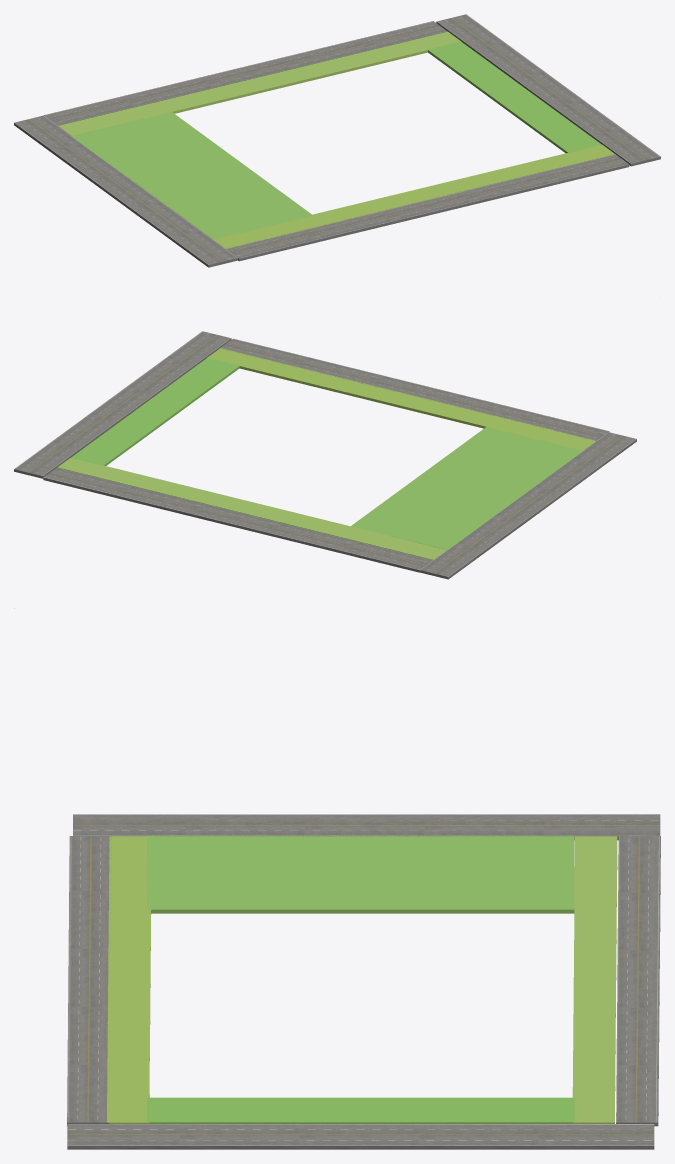
File: road_and_ground.obj
3 renders of one model, top to bottom at view 1: azimuth 30°, elevation 25°; view 2: azimuth 150°, elevation 25°; view 3: azimuth 270°, elevation 25°, orthographic. The views are drawn at different scales.
Parts seen in each view (by area): view 1: Cube.147_Cube.148, Cube.152_Cube.150, Cube.001, Cube.151_Cube.116, Cube.149_Cube.151, Cube.153, Cube.150_Cube.152, Cube.148_Cube.149; view 2: Cube.147_Cube.148, Cube.153, Cube.151_Cube.116, Cube.001, Cube.150_Cube.152, Cube.149_Cube.151, Cube.152_Cube.150, Cube.148_Cube.149; view 3: Cube.147_Cube.148, Cube.151_Cube.116, Cube.001, Cube.153, Cube.149_Cube.151, Cube.150_Cube.152, Cube.152_Cube.150, Cube.148_Cube.149.
Boxes of the visible parts, bbox=[...] form: Cube.147_Cube.148: bbox=[71, 112, 312, 239]; Cube.152_Cube.150: bbox=[226, 154, 629, 261]; Cube.001: bbox=[14, 115, 237, 267]; Cube.151_Cube.116: bbox=[436, 14, 660, 166]; Cube.149_Cube.151: bbox=[58, 31, 460, 135]; Cube.153: bbox=[44, 21, 447, 125]; Cube.150_Cube.152: bbox=[213, 144, 614, 248]; Cube.148_Cube.149: bbox=[428, 41, 601, 153]; Cube.147_Cube.148: bbox=[351, 427, 584, 549]; Cube.153: bbox=[43, 467, 432, 572]; Cube.151_Cube.116: bbox=[14, 331, 231, 478]; Cube.001: bbox=[420, 432, 636, 579]; Cube.150_Cube.152: bbox=[207, 348, 595, 450]; Cube.149_Cube.151: bbox=[57, 458, 446, 559]; Cube.152_Cube.150: bbox=[221, 338, 609, 440]; Cube.148_Cube.149: bbox=[71, 358, 239, 465]; Cube.147_Cube.148: bbox=[147, 835, 574, 913]; Cube.151_Cube.116: bbox=[67, 1124, 654, 1149]; Cube.001: bbox=[73, 814, 660, 840]; Cube.153: bbox=[616, 836, 660, 1126]; Cube.149_Cube.151: bbox=[572, 836, 617, 1123]; Cube.150_Cube.152: bbox=[107, 836, 151, 1123]; Cube.152_Cube.150: bbox=[67, 836, 111, 1125]; Cube.148_Cube.149: bbox=[147, 1097, 574, 1123].
Size of the model in its own units: 207 by 59.19 by 168.
Materials: 7 (2 with a texture image).
